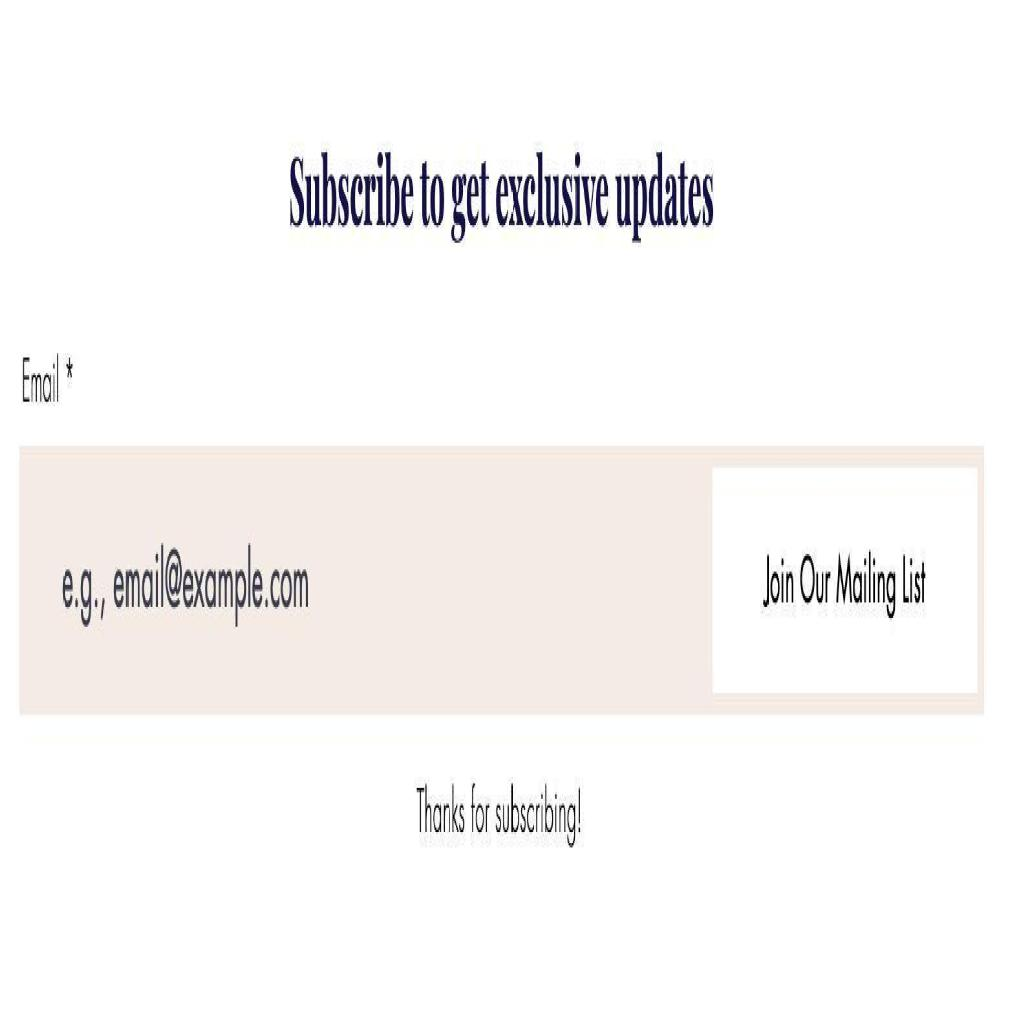button: (709, 457, 983, 708)
label: (16, 338, 63, 430)
